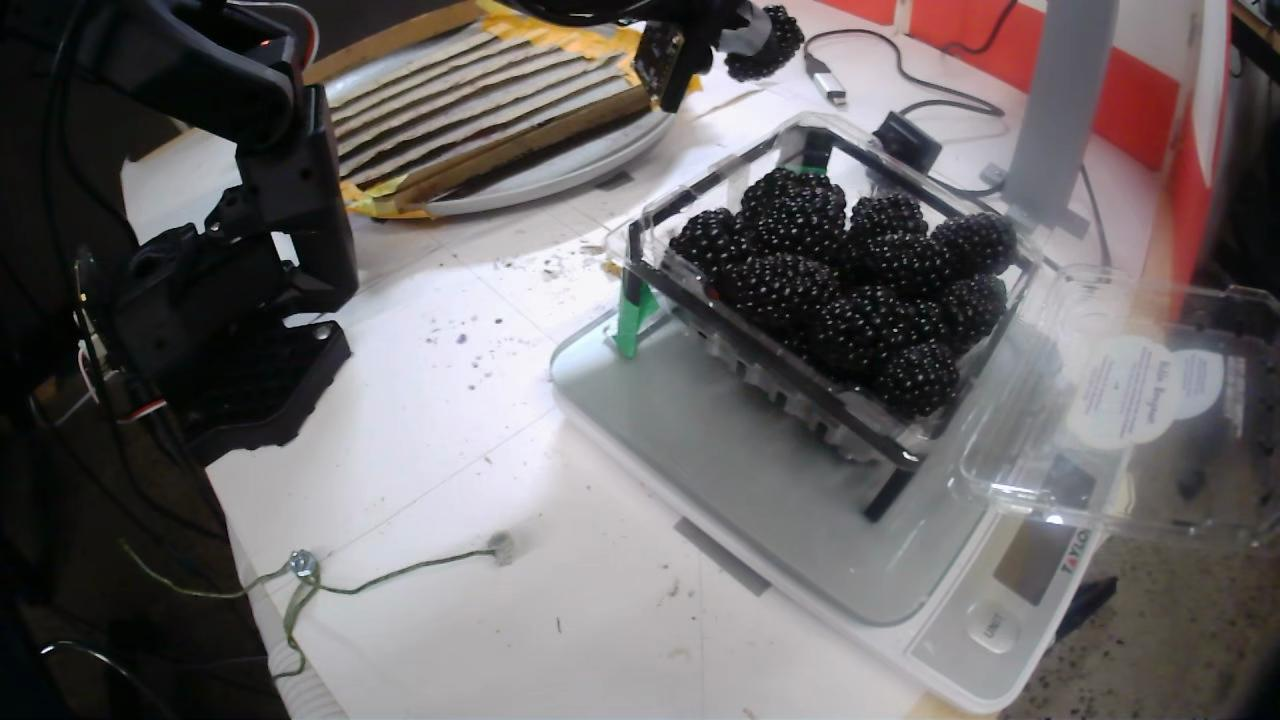berry: (802, 286, 906, 379), (716, 254, 838, 328), (754, 176, 844, 259), (872, 342, 958, 418), (847, 234, 945, 296), (669, 208, 745, 285), (727, 5, 804, 80), (931, 212, 1015, 277), (936, 274, 1004, 354), (850, 194, 927, 238), (742, 167, 794, 218), (903, 299, 948, 342)
